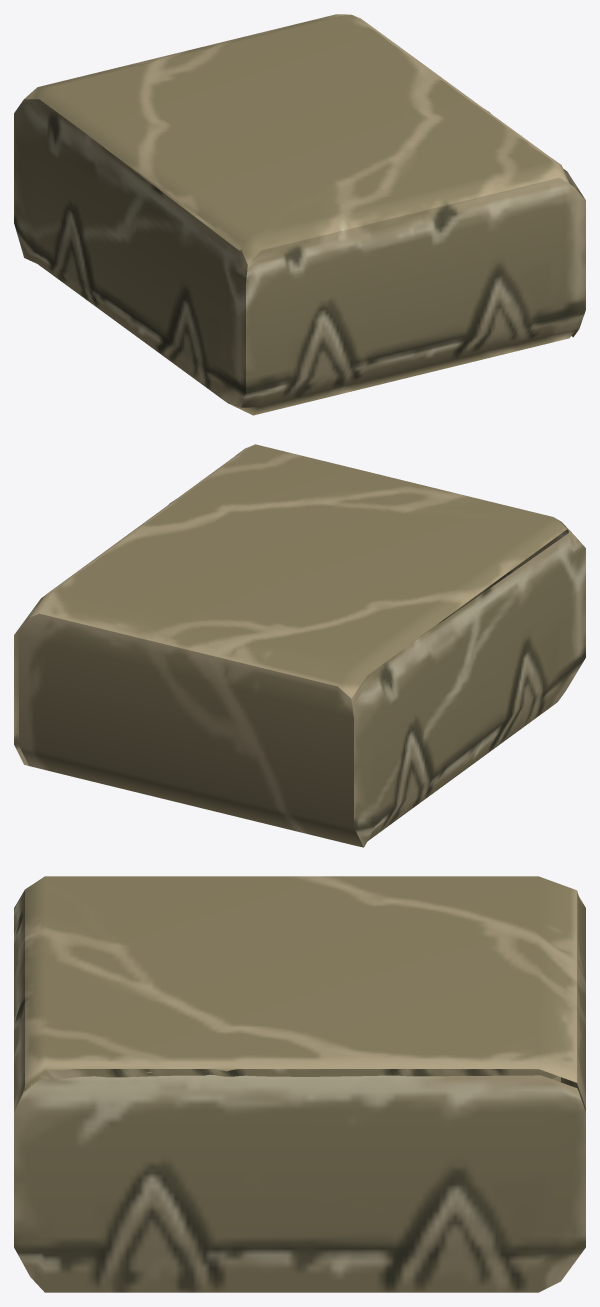
Rendered from top bottom flat.fbx.
3 views of the same model, one above another, from view 1: azimuth 30°, elevation 25°; view 2: azimuth 150°, elevation 25°; view 3: azimuth 270°, elevation 25° (orthographic). The views are drawn at different scales.
Visible parts, largest first — view 1: pCube13; view 2: pCube13; view 3: pCube13.
Part boxes in pixels (box(x1,y1,x2,y2)): pCube13: box(14, 14, 585, 415); pCube13: box(14, 444, 585, 847); pCube13: box(14, 876, 585, 1292).
Size of the model in its own units: 17.83 by 9.11 by 21.09.
